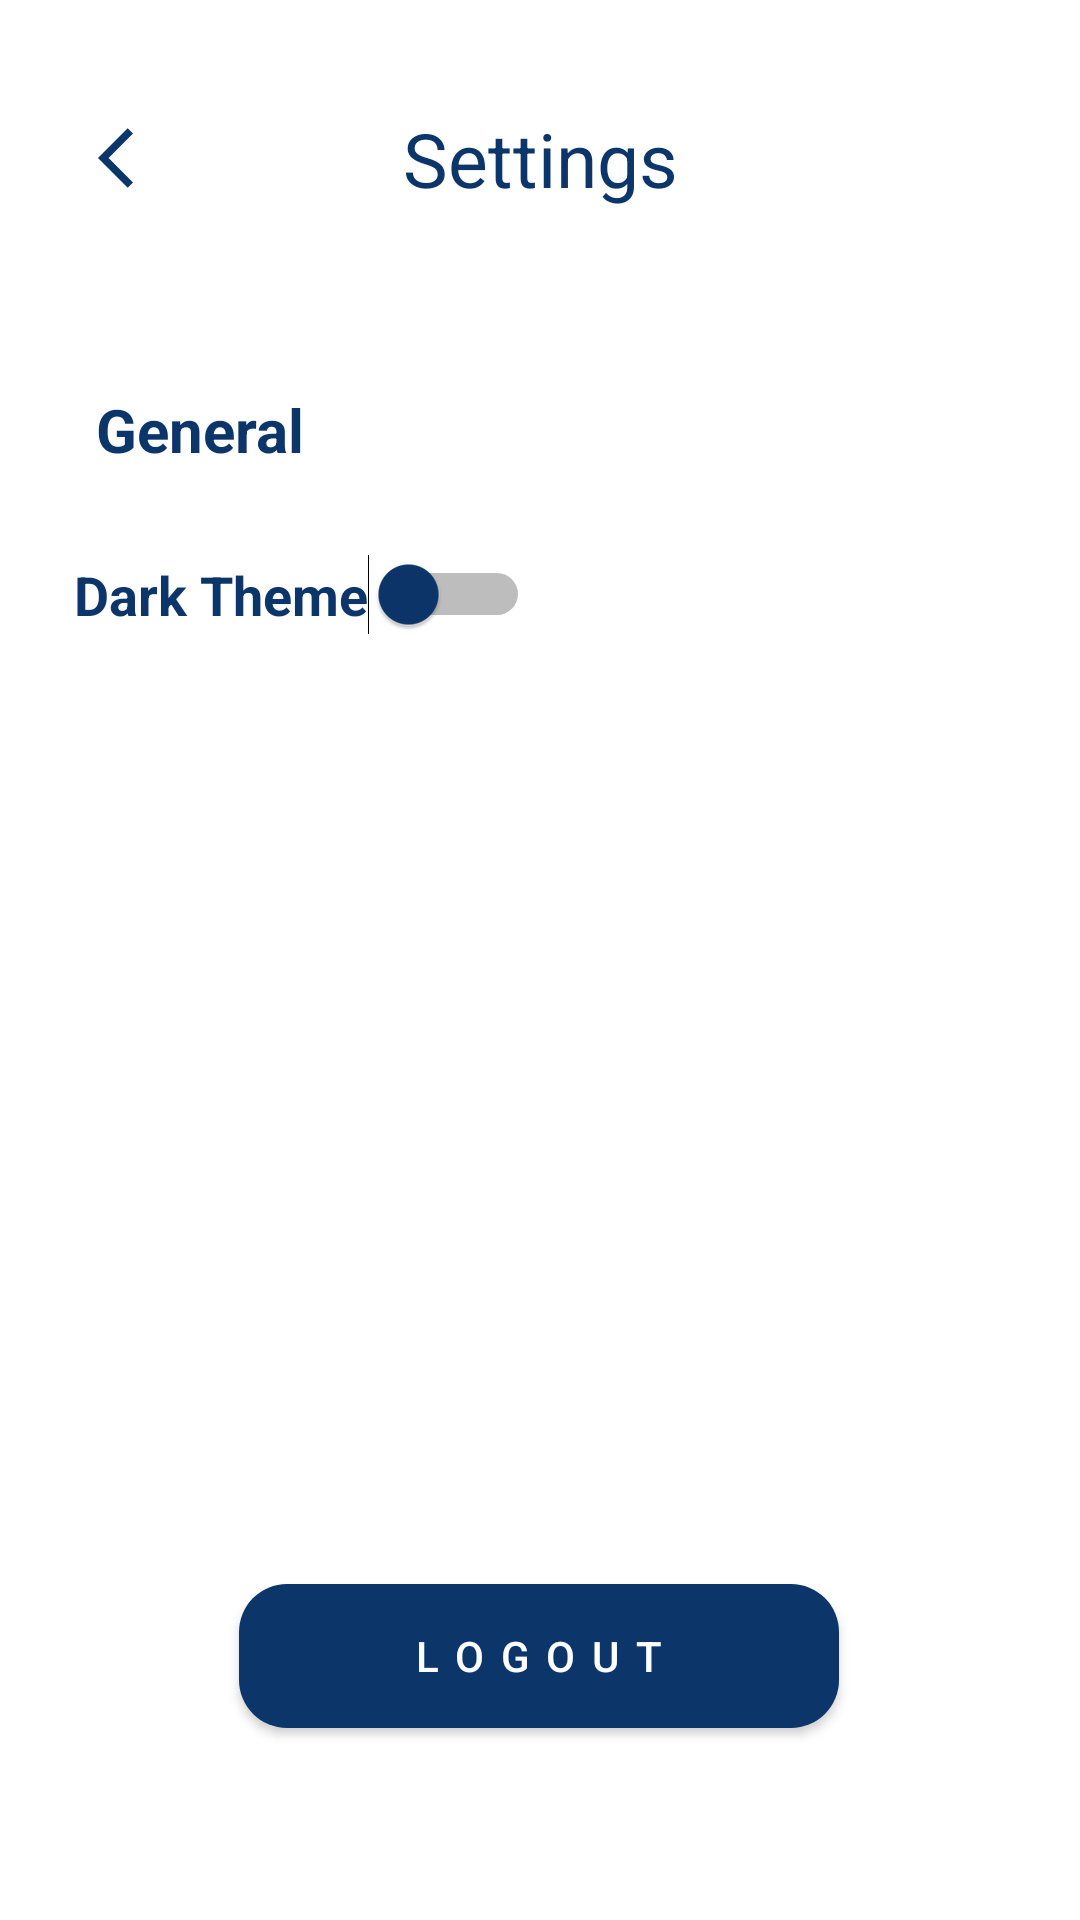

Icon bounding boxes for this 1080 x 1920 phone screenshot, format (x1, y1, x2, y2):
arrow back: (98, 128, 133, 188)
